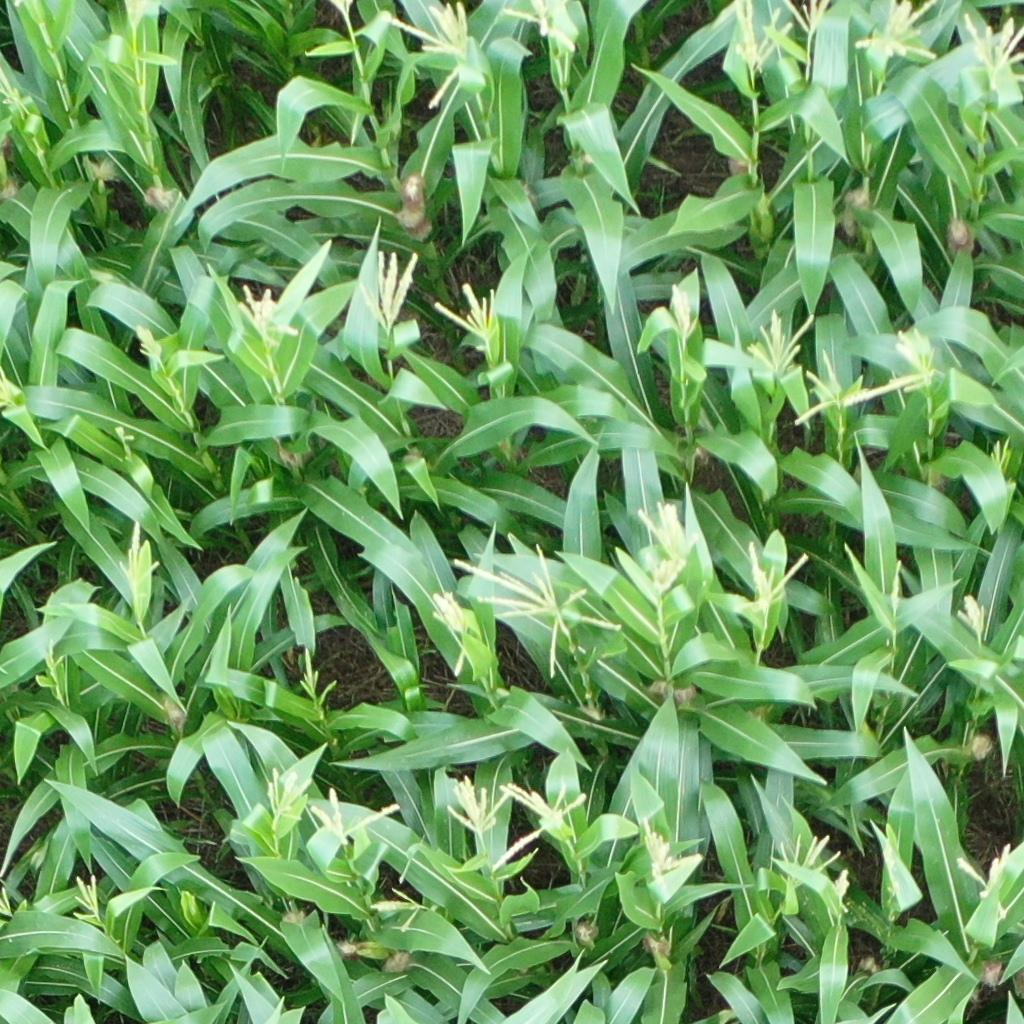Tassel: (453, 541, 623, 680), (382, 1, 475, 109), (494, 782, 591, 874), (845, 329, 939, 403), (854, 1, 945, 69), (728, 540, 810, 613), (358, 250, 420, 337), (310, 784, 398, 845), (960, 8, 1024, 91), (727, 1, 795, 71), (430, 282, 501, 348), (233, 282, 297, 348), (747, 309, 815, 371), (444, 776, 512, 835), (637, 499, 700, 560), (502, 1, 577, 52), (794, 351, 847, 423), (952, 843, 1015, 900), (116, 519, 162, 596), (778, 830, 841, 883), (367, 883, 431, 932), (264, 764, 311, 820), (782, 1, 835, 38), (643, 816, 675, 877), (430, 588, 470, 636), (647, 554, 688, 598), (1, 67, 33, 119), (667, 282, 695, 337), (71, 874, 102, 922), (954, 592, 989, 633), (40, 638, 68, 678), (133, 326, 163, 363), (887, 558, 906, 611), (984, 436, 1011, 471), (300, 648, 320, 692), (1, 365, 20, 410), (833, 869, 852, 904), (1, 886, 13, 918)
